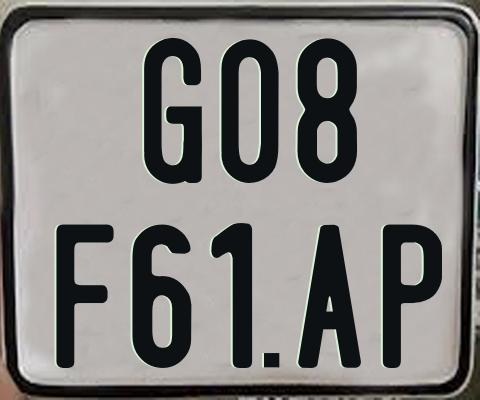0: (218, 38, 281, 186)
1: (210, 221, 255, 369)
6: (130, 223, 196, 369)
8: (297, 38, 357, 189)
A: (297, 224, 361, 373)
F: (56, 224, 120, 370)
G: (144, 36, 205, 184)
P: (380, 222, 441, 366)
